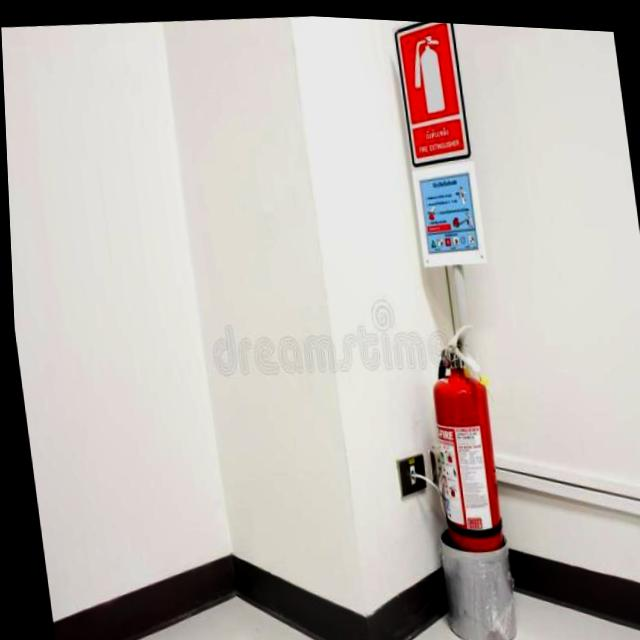FireExtinguisher: (408, 307, 521, 630)
